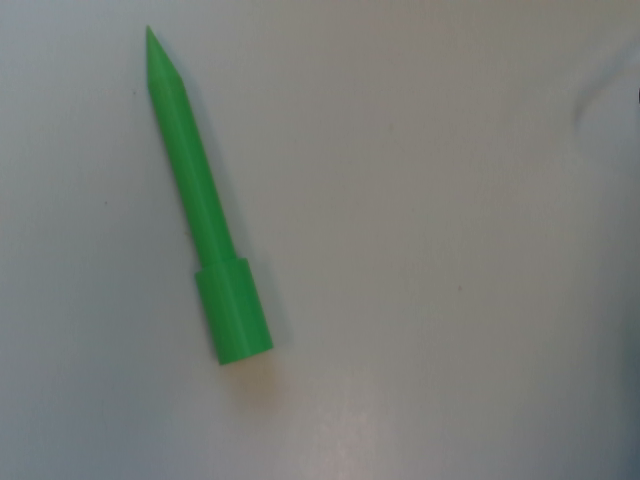Probe: (141, 17, 280, 372)
